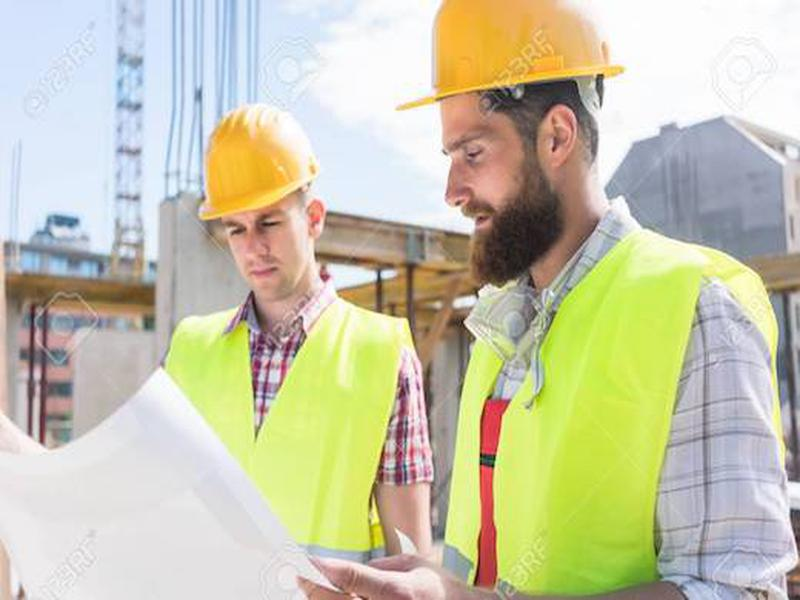hard-hat: (390, 1, 629, 113), (197, 103, 324, 226)
